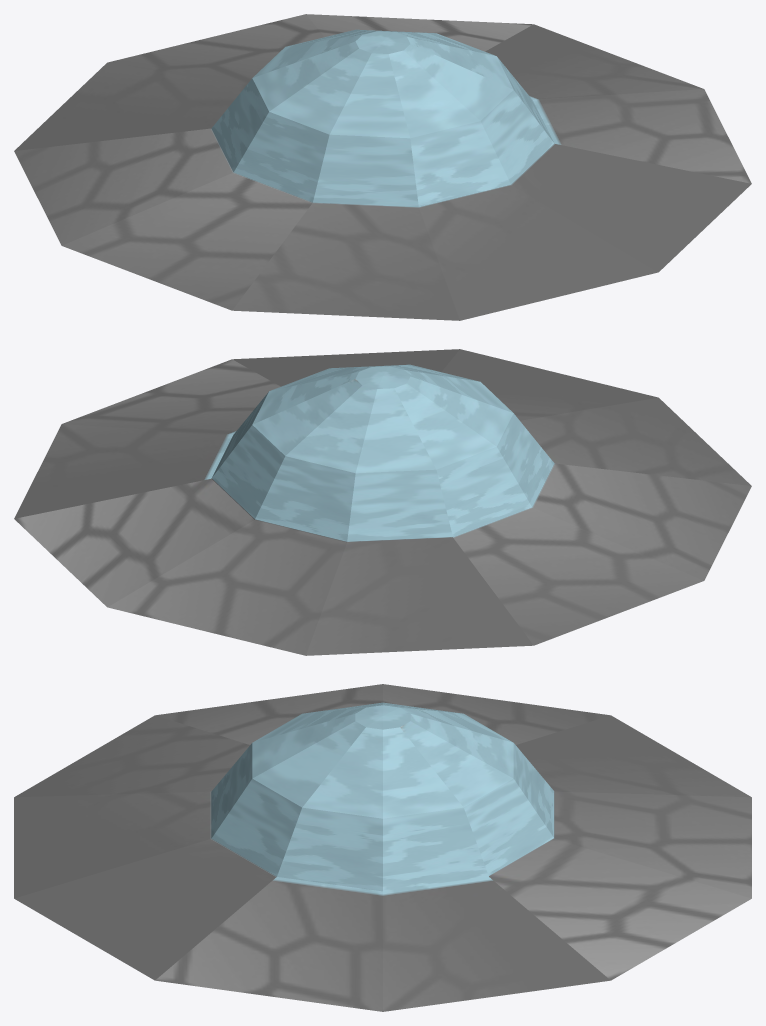
File: Smart2.dae
The picture shows the model from 3 angles, top to bottom: view 1: azimuth 30°, elevation 25°; view 2: azimuth 150°, elevation 25°; view 3: azimuth 270°, elevation 25°; orthographic projection. The views are drawn at different scales.
Visible parts, largest first — view 1: pSphere1; view 2: pSphere1; view 3: pSphere1.
Part boxes in pixels (<box>): pSphere1: <box>14,14,751,320</box>; pSphere1: <box>14,349,751,655</box>; pSphere1: <box>14,684,751,1011</box>.
Size of the model in its own units: 5.37 by 1.32 by 5.11.
1 material, 1 textured.
